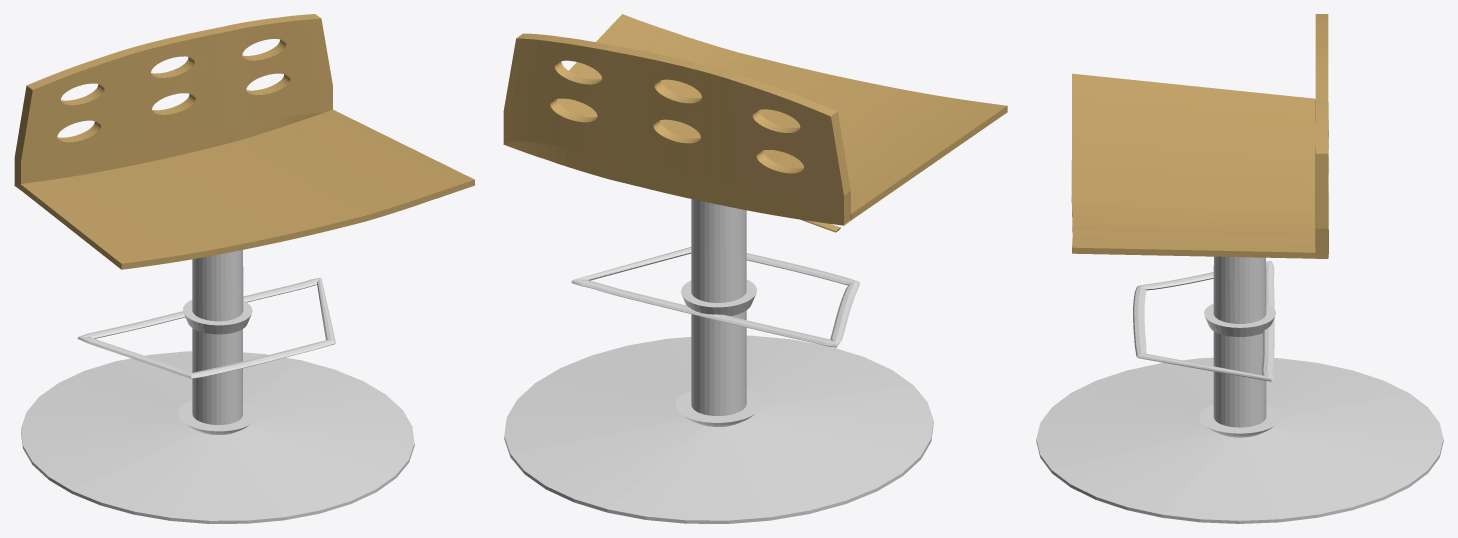
The model's file is sh-bs0-silla2.glb.
The picture shows the model from 3 angles, left to right: view 1: azimuth 30°, elevation 25°; view 2: azimuth 150°, elevation 25°; view 3: azimuth 270°, elevation 25°; orthographic projection. The views are drawn at different scales.
Visible parts, largest first — view 1: BezierCurve.001_Mesh.005; view 2: BezierCurve.001_Mesh.005; view 3: BezierCurve.001_Mesh.005.
Boxes of the visible parts, box(x1,y1,x2,y2) form: BezierCurve.001_Mesh.005: box(14, 14, 474, 523); BezierCurve.001_Mesh.005: box(503, 14, 1007, 523); BezierCurve.001_Mesh.005: box(1036, 14, 1443, 523).
Size of the model in its own units: 1 by 1 by 1.
